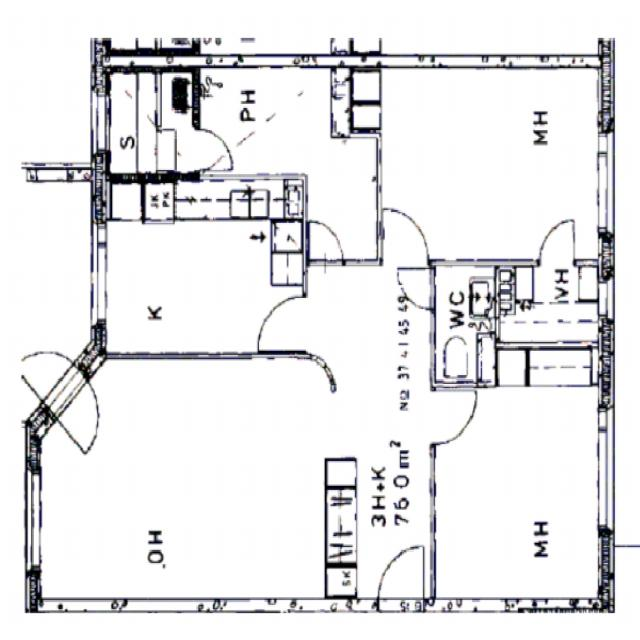door: (40, 361, 122, 461), (7, 320, 88, 420), (378, 542, 424, 612), (383, 204, 428, 265), (260, 296, 308, 349), (431, 392, 477, 443), (540, 217, 574, 265), (192, 130, 232, 170), (310, 217, 343, 265), (398, 267, 435, 308)
